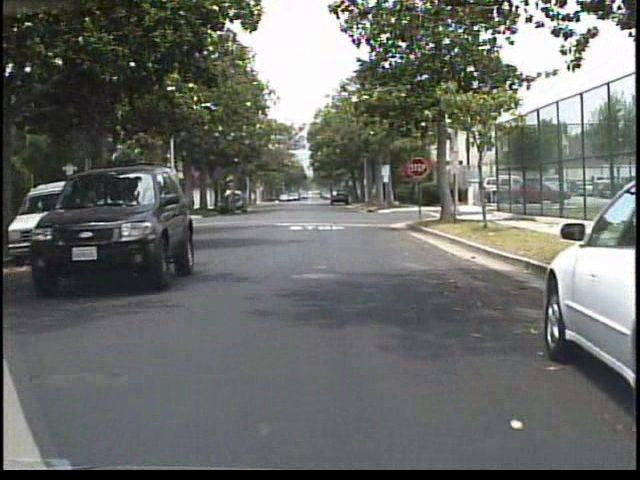person: (226, 180, 247, 221)
